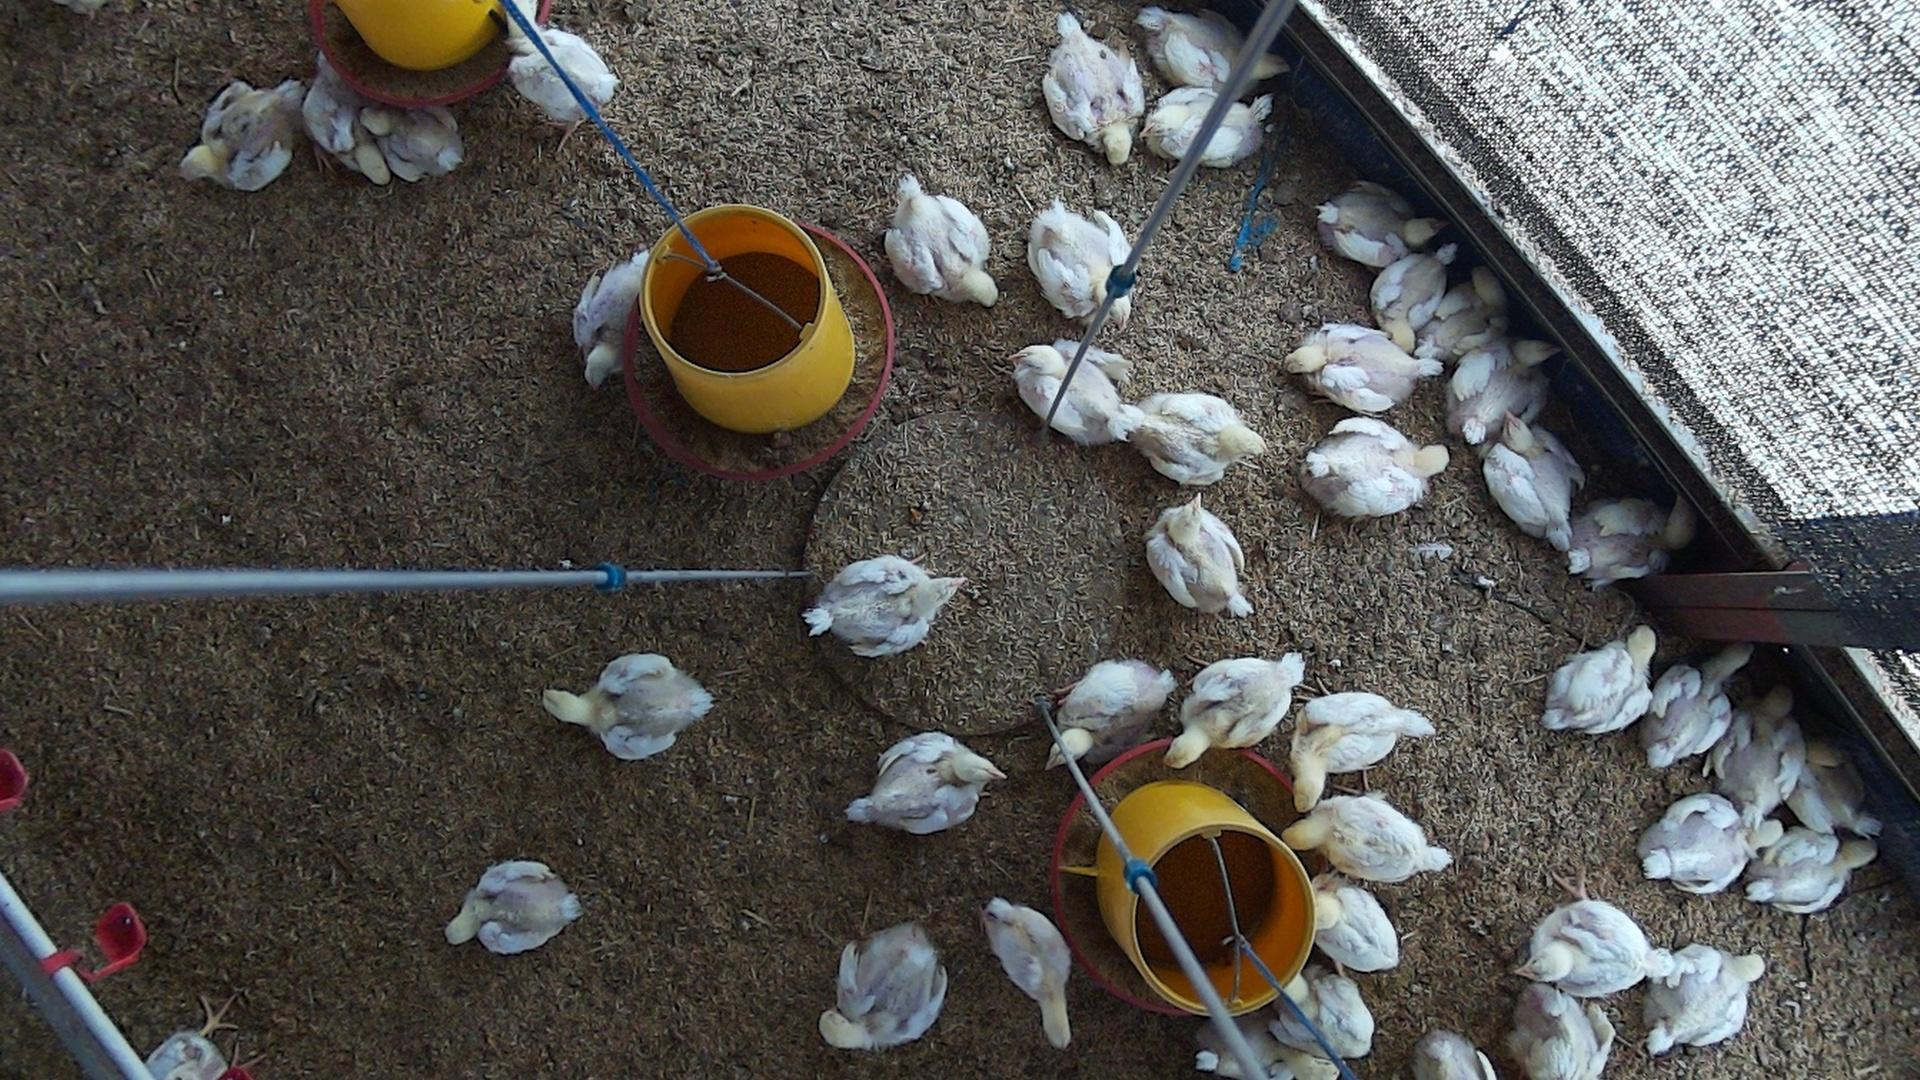ayam_broiler: (541, 651, 715, 760), (1291, 691, 1435, 810), (804, 554, 961, 657), (1167, 654, 1307, 767), (823, 922, 948, 1047), (1043, 13, 1147, 164), (1055, 659, 1175, 787), (849, 732, 1004, 831), (1287, 793, 1453, 882), (1524, 898, 1677, 994), (886, 175, 998, 305), (1304, 418, 1448, 517), (1010, 338, 1143, 443), (1114, 393, 1269, 484), (1287, 323, 1443, 413), (1712, 691, 1805, 840), (1137, 4, 1290, 94), (1484, 418, 1582, 551), (181, 79, 301, 189), (984, 897, 1071, 1047), (1146, 497, 1253, 617), (1644, 948, 1766, 1054), (444, 858, 580, 952), (1639, 793, 1764, 893), (1646, 647, 1749, 767), (506, 9, 617, 120), (1447, 338, 1560, 446), (1027, 203, 1133, 319), (1545, 626, 1656, 735), (302, 51, 390, 186), (1138, 86, 1278, 169), (1743, 827, 1878, 913), (572, 247, 654, 385), (1569, 497, 1695, 587), (1506, 984, 1614, 1080), (1316, 181, 1436, 266), (1784, 742, 1884, 837), (1373, 241, 1457, 353), (1276, 964, 1374, 1058), (1308, 873, 1399, 971), (1415, 268, 1509, 361), (361, 104, 464, 183)
